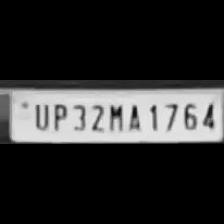1: (144, 100, 160, 132)
2: (86, 100, 104, 132)
3: (69, 100, 87, 132)
4: (198, 98, 218, 130)
6: (178, 99, 198, 131)
7: (160, 98, 178, 132)
A: (125, 100, 144, 132)
M: (105, 100, 124, 132)
P: (50, 100, 68, 132)
U: (30, 99, 50, 130)
